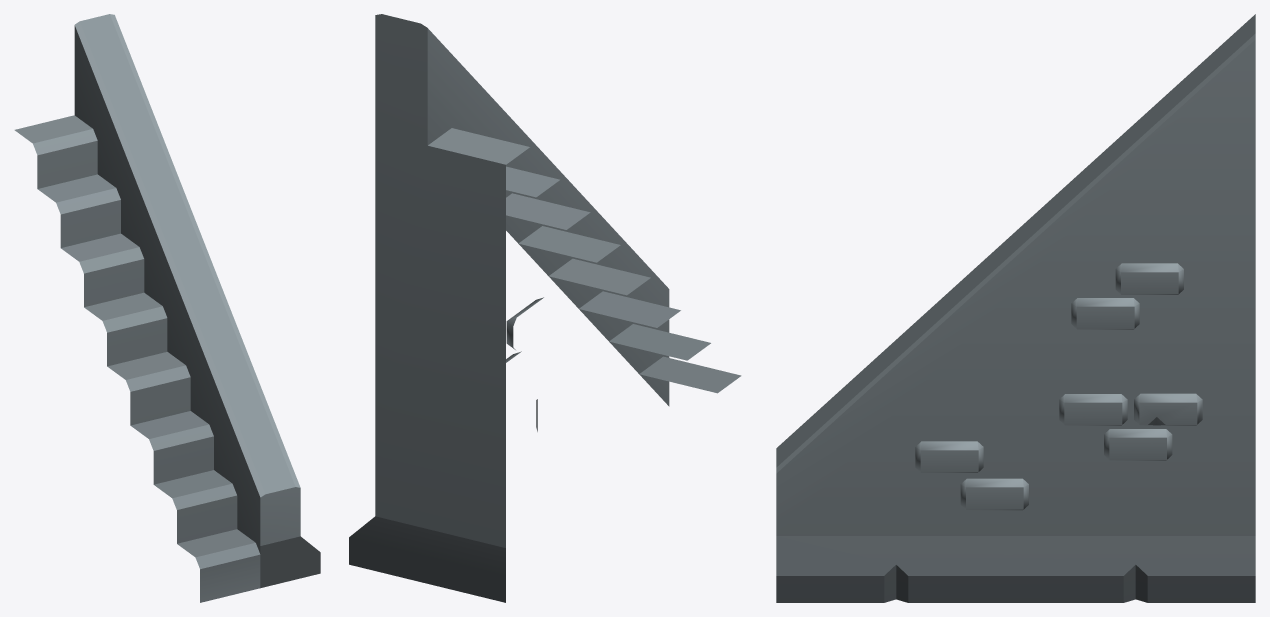
The model's file is stairs_modular_right.gltf.
3 views of the same model, side by side, from view 1: azimuth 30°, elevation 25°; view 2: azimuth 150°, elevation 25°; view 3: azimuth 270°, elevation 25° (orthographic). The views are drawn at different scales.
Parts seen in each view (by area): view 1: stairs_modular_right; view 2: stairs_modular_right; view 3: stairs_modular_right.
Boxes of the visible parts, bbox=[...] form: stairs_modular_right: bbox=[14, 14, 320, 602]; stairs_modular_right: bbox=[349, 14, 741, 602]; stairs_modular_right: bbox=[776, 14, 1255, 602].
Bounding box in the file's own units: 1.5 × 5.1 × 4.
1 material, 1 textured.
